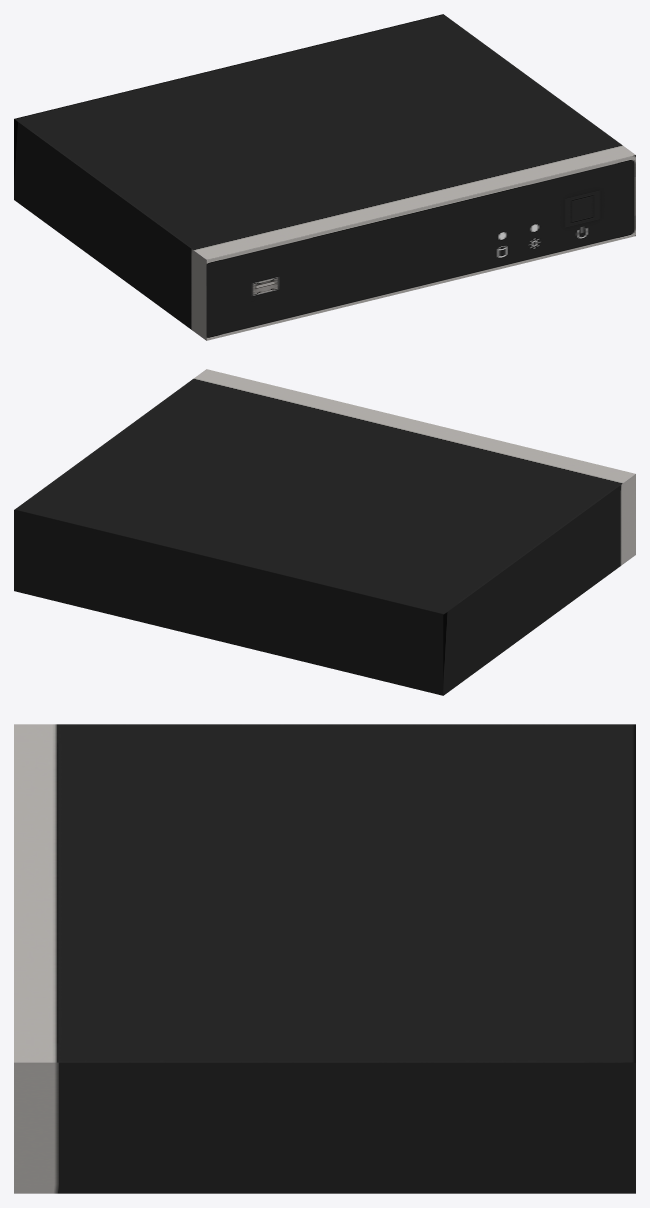
File: UBX-310.fbx
3 views of the same model, one above another, from view 1: azimuth 30°, elevation 25°; view 2: azimuth 150°, elevation 25°; view 3: azimuth 270°, elevation 25° (orthographic). The views are drawn at different scales.
Parts seen in each view (by area): view 1: A; view 2: A; view 3: A.
Part boxes in pixels (x1,y1,x2,y2): A: [14, 14, 635, 340]; A: [14, 369, 635, 695]; A: [14, 724, 635, 1193].
Size of the model in its own units: 24.32 by 4.72 by 18.89.
1 material, 1 textured.
